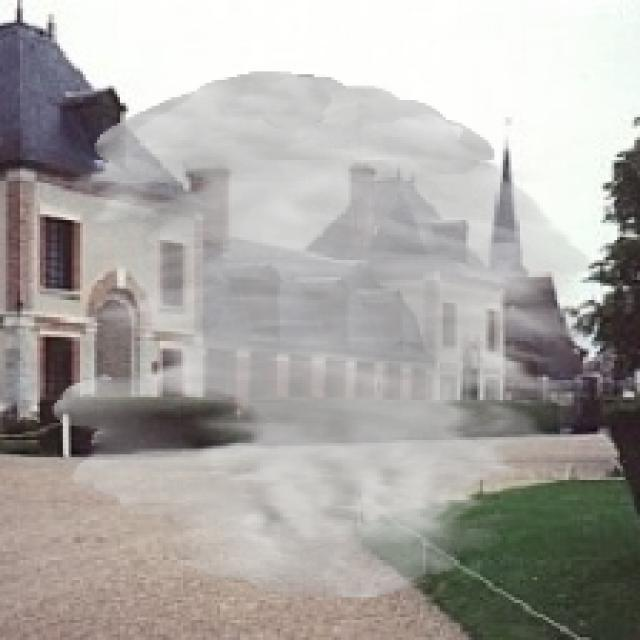Smoke: (51, 71, 594, 600)
